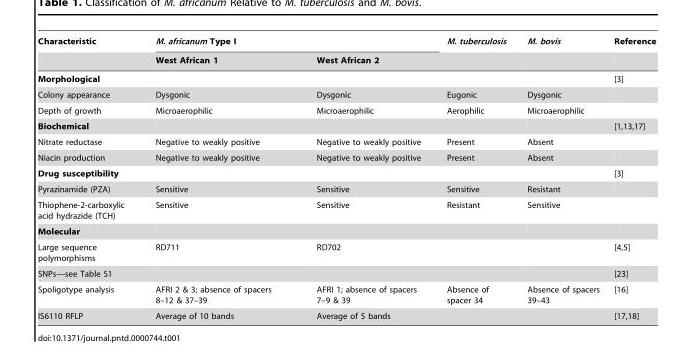table: (37, 36, 655, 320)
table column: (138, 36, 293, 320), (293, 36, 432, 320), (37, 36, 138, 320), (516, 36, 606, 320), (432, 36, 516, 320), (606, 36, 655, 320)
table column header: (37, 36, 655, 69)
table projected row header: (37, 223, 655, 239)
table row: (37, 196, 655, 223), (37, 239, 655, 265), (37, 281, 655, 307), (37, 50, 655, 69), (37, 69, 655, 86), (37, 86, 655, 102), (37, 102, 655, 118), (37, 133, 655, 149), (37, 149, 655, 165), (37, 165, 655, 181), (37, 223, 655, 239), (37, 265, 655, 281), (37, 118, 655, 133), (37, 181, 655, 196), (37, 36, 655, 50), (37, 307, 655, 320)
table spanning cell: (138, 36, 432, 50), (37, 36, 138, 69), (516, 36, 606, 69), (432, 36, 516, 69), (606, 36, 655, 69)
